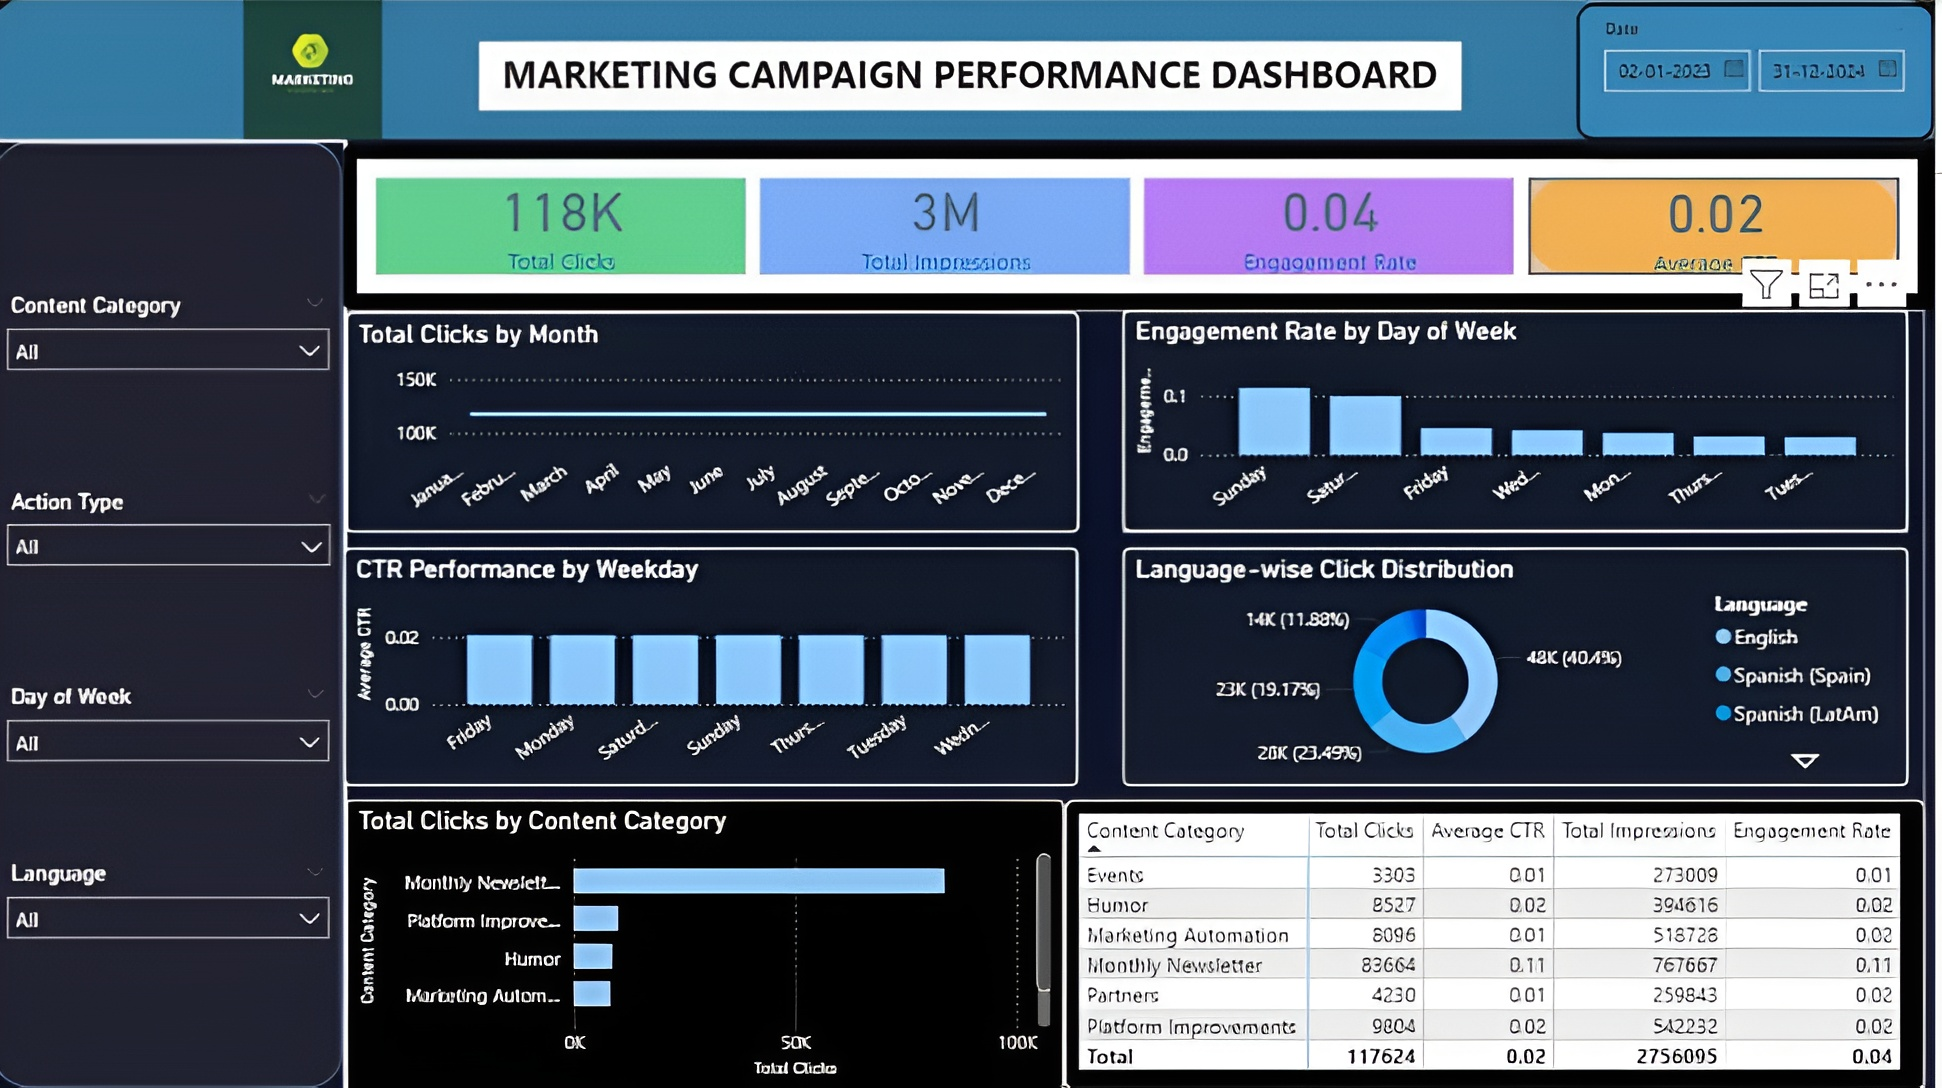

This screenshot's page, from the dashboard's own definition file:
{"tool":"powerbi","page":{"name":"Page 1","canvas":[1280,720],"ordinal":0},"visuals":[{"type":"shape","box":[0,0,1280.3,91.7],"z":0},{"type":"shape","box":[0,91.7,234,628.6],"z":1000},{"type":"clusteredBarChart","fields":{"Category":["marketing_data_simulated.Content Category"],"Y":["marketing_data_simulated.Total Clicks"]},"box":[233.5,527,473.2,193.2],"z":1000,"group":"g1"},{"type":"cardVisual","fields":{"Data":["marketing_data_simulated.Total Clicks","marketing_data_simulated.Total Impressions","marketing_data_simulated.Engagement Rate","marketing_data_simulated.Average CTR"]},"box":[232.3,96.6,1048,107.6],"z":2000},{"type":"donutChart","title":"Language-wise Click Distribution","fields":{"Category":["marketing_data_simulated.Language"],"Y":["marketing_data_simulated.Total Clicks"]},"box":[745.9,360.7,517.3,157.7],"z":2000,"group":"g1"},{"type":"slicer","fields":{"Values":["marketing_data_simulated.Content Category"]},"box":[0,188.3,232.3,106.4],"z":3000},{"type":"slicer","fields":{"Values":["marketing_data_simulated.Action Type"]},"box":[0,316.3,233.6,107.6],"z":4000},{"type":"columnChart","title":"CTR Performance by Weekday","fields":{"Category":["DateTable.Day Name"],"Y":["marketing_data_simulated.Average CTR"]},"box":[232.3,360.7,484.2,157.7],"z":4000,"group":"g1"},{"type":"lineChart","fields":{"Category":["DateTable.Date.Variation.Date Hierarchy.Month"],"Y":["marketing_data_simulated.Total Clicks"]},"box":[233.5,205.4,483,145.5],"z":5000,"group":"g1"},{"type":"slicer","fields":{"Values":["marketing_data_simulated.Day of Week"]},"box":[0,445.5,232.3,95.4],"z":5000},{"type":"clusteredColumnChart","fields":{"Category":["marketing_data_simulated.Day of Week"],"Y":["marketing_data_simulated.Engagement Rate"]},"box":[745.9,204.2,517.3,146.7],"z":6000,"group":"g1"},{"type":"slicer","fields":{"Values":["marketing_data_simulated.Language"]},"box":[0,562.5,232.3,106.4],"z":6000},{"type":"textbox","box":[321.6,26.9,646.9,45.2],"z":7000},{"type":"pivotTable","fields":{"Rows":["marketing_data_simulated.Content Category"],"Values":["marketing_data_simulated.Total Clicks","marketing_data_simulated.Average CTR","marketing_data_simulated.Total Impressions","marketing_data_simulated.Engagement Rate"]},"box":[706.9,527.2,567,193],"z":7000,"group":"g1"},{"type":"image","box":[132.1,0,160.2,91.7],"z":8000},{"type":"slicer","fields":{"Values":["DateTable.Date"]},"box":[1044.8,2.4,235.3,89.3],"z":9000},{"type":"group","id":"g1","title":"Group 1","box":[232.3,204.2,1041.7,516],"z":10000}]}

Visuals, with their boxes in screenshot pixels (x1, y1, x2, y2), scaled from the page's 1280x720 canvas onto the 1942x1088 screenshot:
shape: 0:0:1941:139
shape: 0:139:355:1087
clusteredBarChart - marketing_data_simulated.Content Category x marketing_data_simulated.Total Clicks: 354:796:1072:1087
cardVisual - marketing_data_simulated.Total Clicks x marketing_data_simulated.Total Impressions: 352:146:1941:309
"Language-wise Click Distribution" donutChart: 1132:545:1917:783
slicer - marketing_data_simulated.Content Category: 0:285:352:445
slicer - marketing_data_simulated.Action Type: 0:478:354:641
"CTR Performance by Weekday" columnChart: 352:545:1087:783
lineChart - DateTable.Date.Variation.Date Hierarchy.Month x marketing_data_simulated.Total Clicks: 354:310:1087:530
slicer - marketing_data_simulated.Day of Week: 0:673:352:817
clusteredColumnChart - marketing_data_simulated.Day of Week x marketing_data_simulated.Engagement Rate: 1132:309:1917:530
slicer - marketing_data_simulated.Language: 0:850:352:1011
textbox: 488:41:1469:109
pivotTable - marketing_data_simulated.Content Category x marketing_data_simulated.Total Clicks: 1072:797:1933:1087
image: 200:0:443:139
slicer - DateTable.Date: 1585:4:1941:139
"Group 1" group: 352:309:1933:1087
